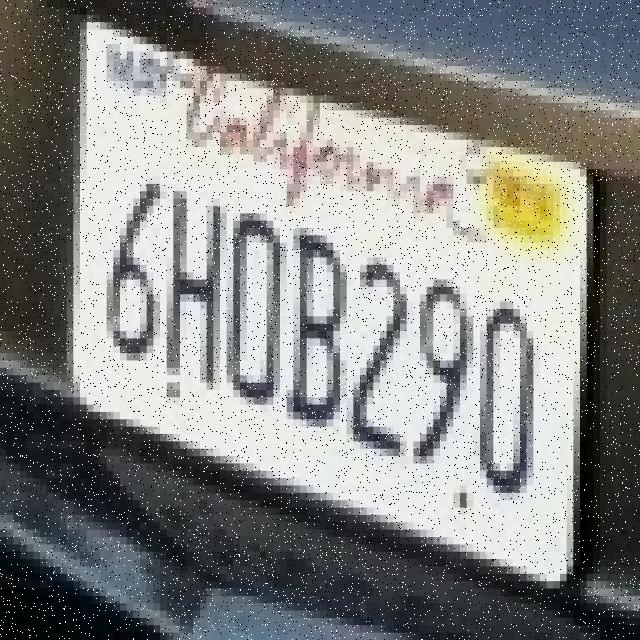licenseplate: (33, 4, 612, 602)
